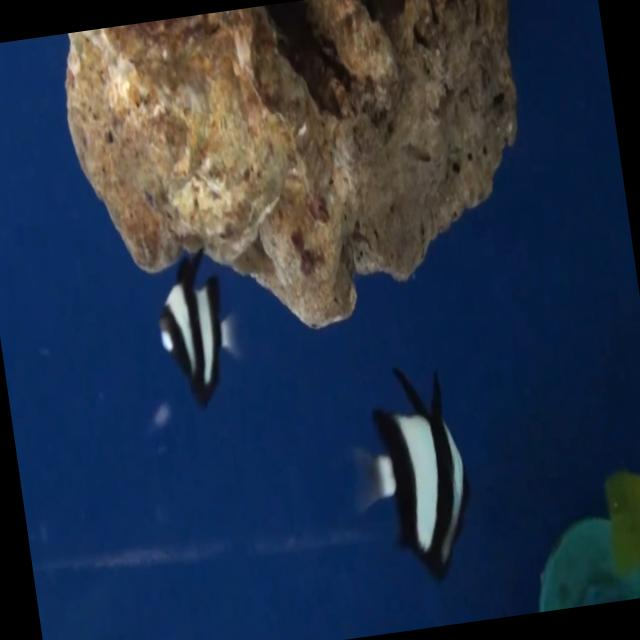ThreeStripedDamselfish: (349, 366, 464, 577), (156, 248, 238, 408)
